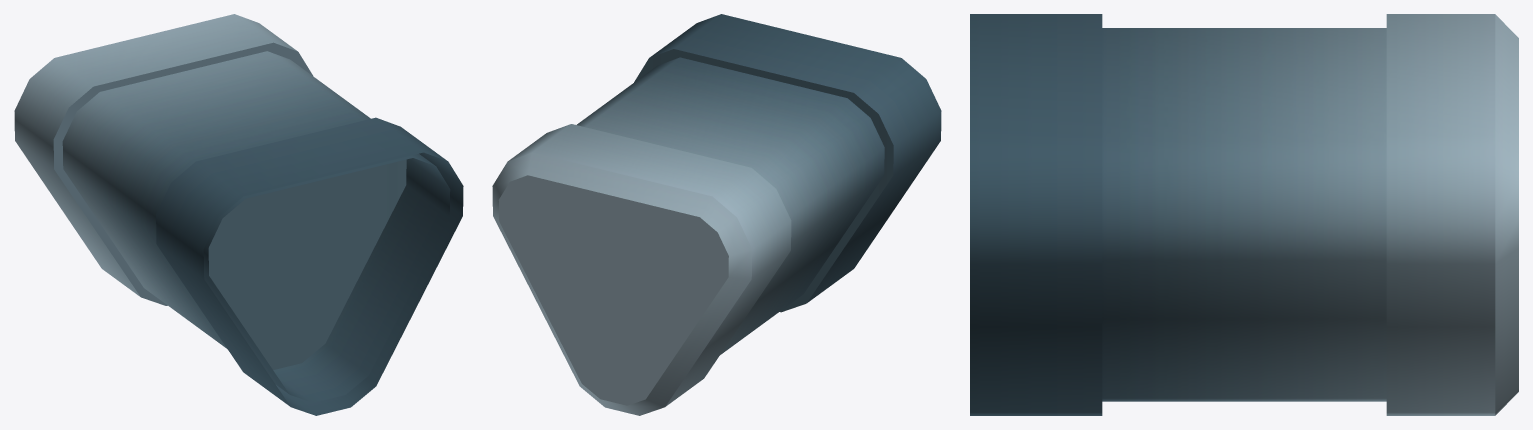
File: Pillar 01.FBX
The picture shows the model from 3 angles, left to right: view 1: azimuth 30°, elevation 25°; view 2: azimuth 150°, elevation 25°; view 3: azimuth 270°, elevation 25°; orthographic projection. The views are drawn at different scales.
Parts seen in each view (by area): view 1: Pillar 01; view 2: Pillar 01; view 3: Pillar 01.
Boxes of the visible parts, x1,y1,x2,y2 form: Pillar 01: (14, 14, 463, 415); Pillar 01: (492, 14, 941, 415); Pillar 01: (970, 14, 1518, 415).
Size of the model in its own units: 127 by 110 by 167.
1 material, 1 textured.
